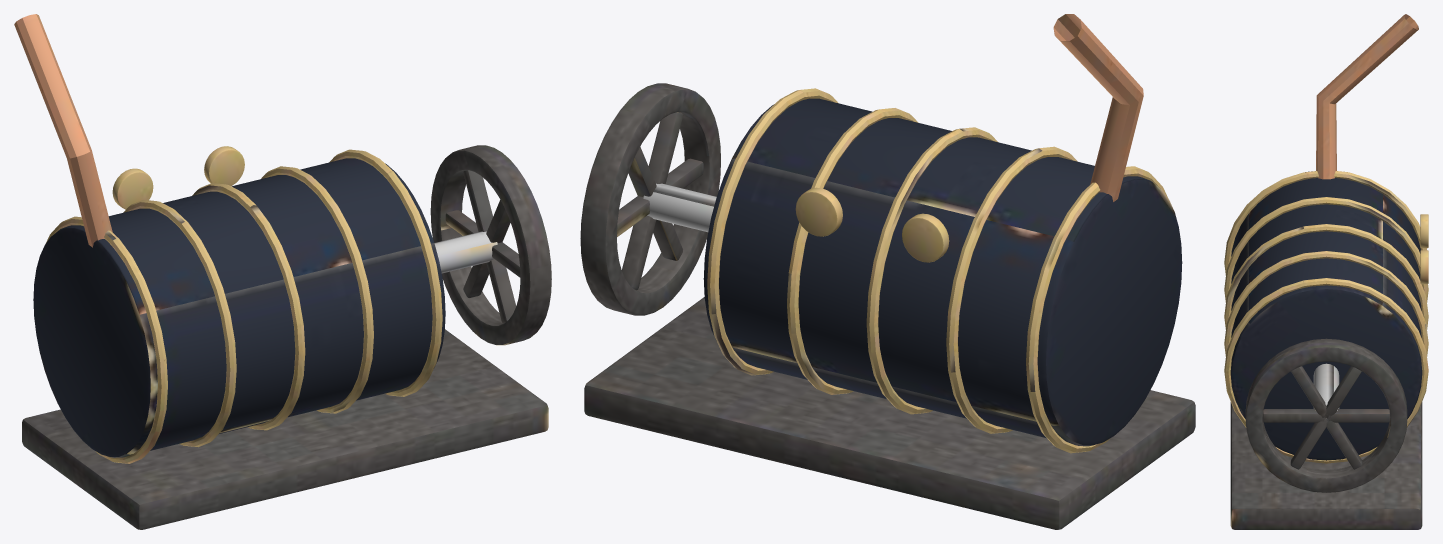
File: generator.glb
The picture shows the model from 3 angles, left to right: view 1: azimuth 30°, elevation 25°; view 2: azimuth 150°, elevation 25°; view 3: azimuth 270°, elevation 25°; orthographic projection. The views are drawn at different scales.
Parts seen in each view (by area): view 1: drum, base, flywheel, pipe, band0.6, band-0.3, band0.0, band0.3, band-0.6, shaft, gauge1, gauge0 (+4 smaller); view 2: drum, base, flywheel, pipe, band0.0, band0.6, band-0.3, band-0.6, band0.3, shaft, gauge0, gauge1 (+6 smaller); view 3: drum, base, flywheel, pipe, band0.6, band0.3, band0.0, band-0.3, band-0.6, spoke0, spoke3, shaft (+6 smaller).
Part boxes in pixels (left/top/right/bottom): drum: left=33, top=158, right=445, bottom=457; base: left=22, top=329, right=548, bottom=529; flywheel: left=430, top=145, right=551, bottom=345; pipe: left=14, top=14, right=112, bottom=247; band0.6: left=329, top=149, right=442, bottom=396; band-0.3: left=123, top=200, right=236, bottom=447; band0.0: left=192, top=183, right=305, bottom=430; band0.3: left=261, top=166, right=373, bottom=413; band-0.6: left=46, top=216, right=167, bottom=463; shaft: left=434, top=231, right=497, bottom=273; gauge1: left=204, top=146, right=244, bottom=185; gauge0: left=112, top=168, right=153, bottom=209; drum: left=703, top=98, right=1182, bottom=446; base: left=584, top=297, right=1195, bottom=529; flywheel: left=580, top=83, right=720, bottom=315; pipe: left=1053, top=14, right=1143, bottom=201; band0.0: left=866, top=127, right=997, bottom=414; band0.6: left=707, top=88, right=838, bottom=375; band-0.3: left=946, top=146, right=1077, bottom=433; band-0.6: left=1026, top=166, right=1167, bottom=453; band0.3: left=787, top=108, right=918, bottom=394; shaft: left=643, top=183, right=716, bottom=232; gauge0: left=902, top=213, right=949, bottom=262; gauge1: left=795, top=187, right=842, bottom=236; drum: left=1230, top=178, right=1422, bottom=460; base: left=1230, top=402, right=1422, bottom=529; flywheel: left=1245, top=338, right=1407, bottom=492; pipe: left=1316, top=14, right=1418, bottom=179; band0.6: left=1224, top=278, right=1428, bottom=463; band0.3: left=1224, top=251, right=1428, bottom=356; band0.0: left=1224, top=224, right=1428, bottom=329; band-0.3: left=1224, top=197, right=1428, bottom=302; band-0.6: left=1224, top=171, right=1426, bottom=275; spoke0: left=1327, top=409, right=1390, bottom=422; spoke3: left=1262, top=409, right=1325, bottom=422; shaft: left=1313, top=363, right=1339, bottom=410.
Size of the model in its own units: 1.9 by 1.84 by 0.96.
1 material, 1 textured.
